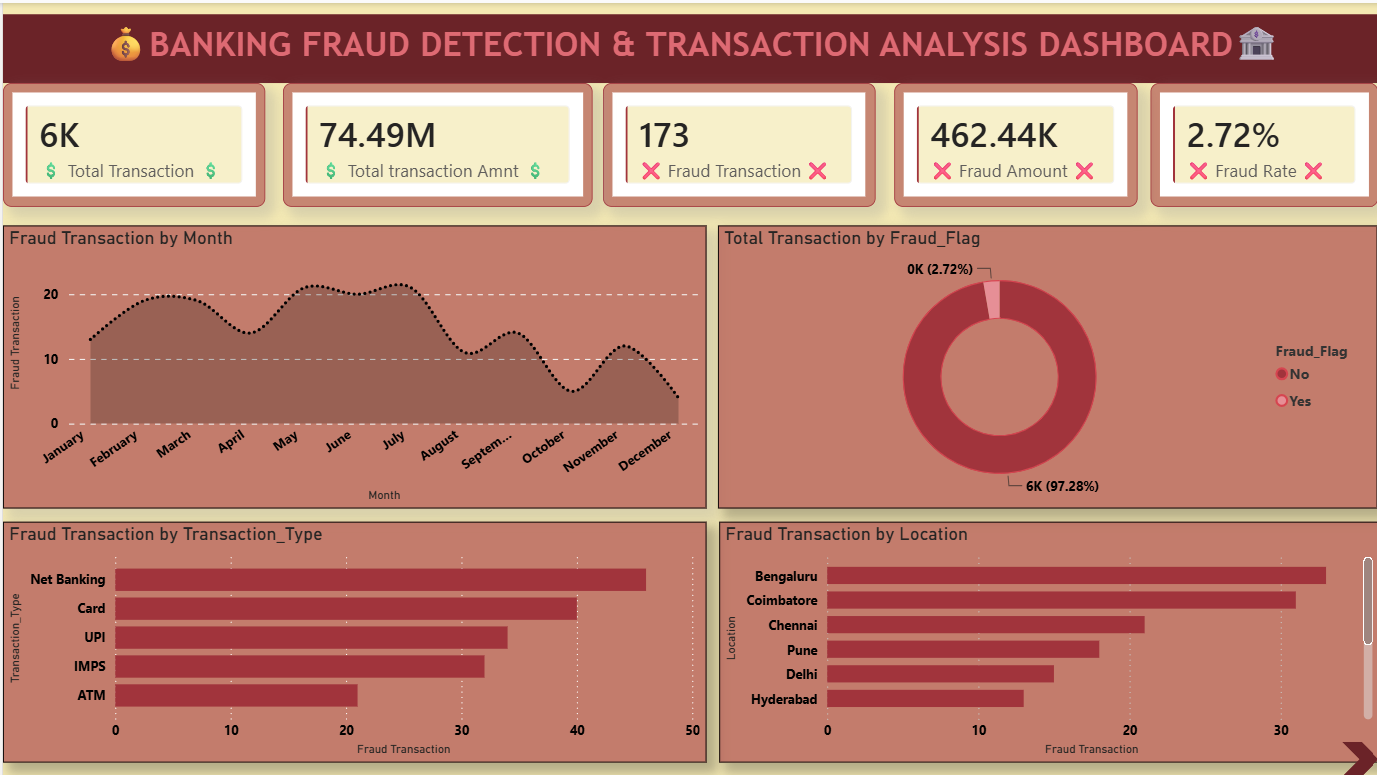

The page's visual inventory and layout, read from the dashboard file:
{"tool":"powerbi","page":{"name":"Fraud Overview","canvas":[1280,720],"ordinal":0},"visuals":[{"type":"textbox","box":[0,0,1280.3,64.5],"z":0},{"type":"cardVisual","fields":{"Data":["Fraud Data.Fraud Amount"]},"box":[828.8,74.1,226.4,115.3],"z":1000},{"type":"cardVisual","fields":{"Data":["Fraud Data.Fraud Transaction"]},"box":[558.5,74.1,253.9,115.3],"z":2000},{"type":"cardVisual","fields":{"Data":["Fraud Data.Total transaction Amnt"]},"box":[260.7,74.1,288.2,115.3],"z":3000},{"type":"cardVisual","fields":{"Data":["Fraud Data.Fraud Rate"]},"box":[1067.6,74.1,212.7,115.3],"z":4000},{"type":"cardVisual","fields":{"Data":["Fraud Data.Total Transaction"]},"box":[0,74.1,244.3,115.3],"z":5000},{"type":"lineChart","fields":{"Y":["Fraud Data.Fraud Transaction"],"Category":["Fraud Data.Transaction_Date.Variation.Date Hierarchy.Month"]},"box":[0,207.2,654.5,263.5],"z":6000},{"type":"clusteredBarChart","fields":{"Category":["Fraud Data.Transaction_Type"],"Y":["Fraud Data.Fraud Transaction"]},"box":[0,483,654.5,223.7],"z":7000},{"type":"donutChart","fields":{"Category":["Fraud Data.Fraud_Flag"],"Y":["Fraud Data.Total Transaction"]},"box":[665.5,207.2,614.8,263.5],"z":8000},{"type":"barChart","fields":{"Category":["Fraud Data.Location"],"Y":["Fraud Data.Fraud Transaction"]},"box":[666,483,614,224],"z":9000}]}

Visuals, with their boxes in screenshot pixels (x1, y1, x2, y2), scaled from the page's 1280x720 canvas onto the 1377x775 screenshot:
textbox: detection(0, 0, 1376, 69)
cardVisual - Fraud Data.Fraud Amount: detection(892, 80, 1135, 204)
cardVisual - Fraud Data.Fraud Transaction: detection(601, 80, 874, 204)
cardVisual - Fraud Data.Total transaction Amnt: detection(280, 80, 590, 204)
cardVisual - Fraud Data.Fraud Rate: detection(1149, 80, 1376, 204)
cardVisual - Fraud Data.Total Transaction: detection(0, 80, 263, 204)
lineChart - Fraud Data.Fraud Transaction x Fraud Data.Transaction_Date.Variation.Date Hierarchy.Month: detection(0, 223, 704, 507)
clusteredBarChart - Fraud Data.Transaction_Type x Fraud Data.Fraud Transaction: detection(0, 520, 704, 761)
donutChart - Fraud Data.Fraud_Flag x Fraud Data.Total Transaction: detection(716, 223, 1376, 507)
barChart - Fraud Data.Location x Fraud Data.Fraud Transaction: detection(716, 520, 1376, 761)
